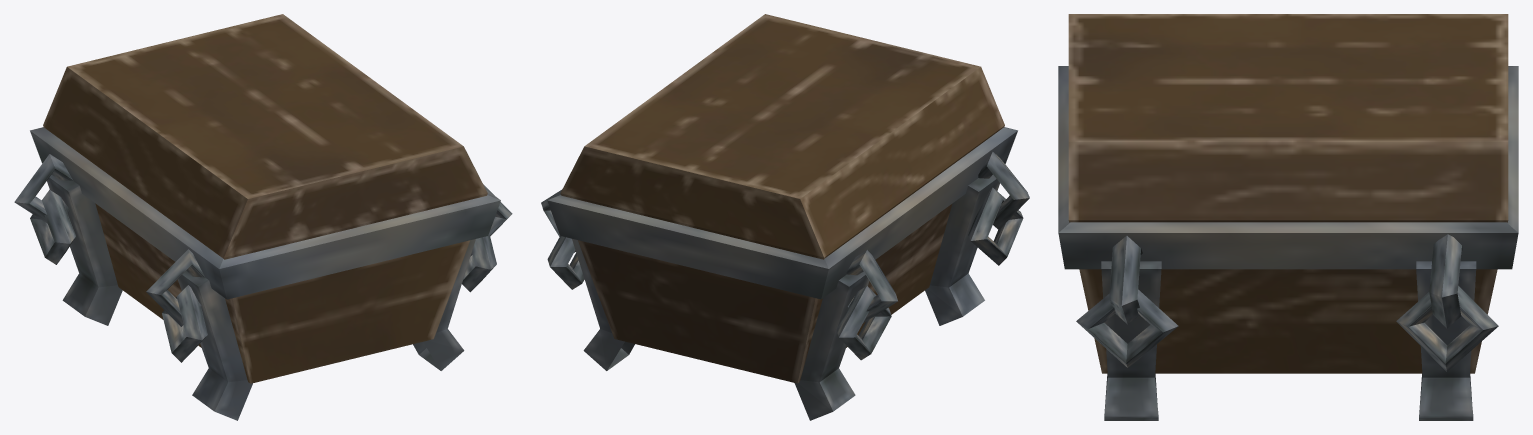
The model's file is chest_001.obj.
3 renders of one model, left to right at view 1: azimuth 30°, elevation 25°; view 2: azimuth 150°, elevation 25°; view 3: azimuth 270°, elevation 25°, orthographic. The views are drawn at different scales.
Parts seen in each view (by area): view 1: chest_001; view 2: chest_001; view 3: chest_001.
Part boxes in pixels (x1,y1,x2,y2): chest_001: (14,14,512,420); chest_001: (541,14,1029,420); chest_001: (1058,14,1518,420).
Bounding box in the file's own units: 2.99 × 1.84 × 2.71.
